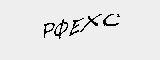Е: (69, 16, 84, 37)
Р: (40, 22, 56, 43)
С: (100, 12, 124, 29)
Ф: (51, 18, 69, 41)
Х: (82, 11, 100, 32)
